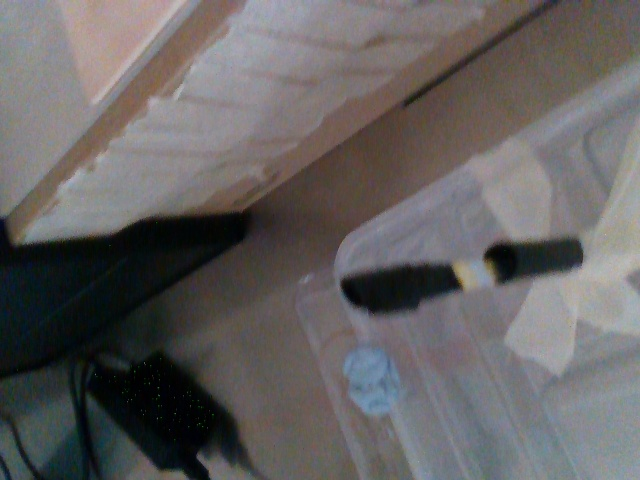test_strip: (338, 257, 493, 317)
